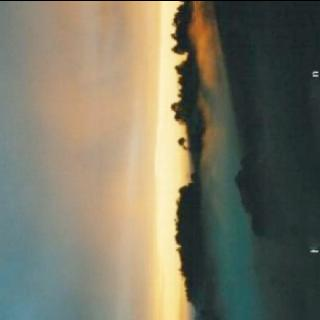Nimbostratus: (0, 0, 183, 320)
